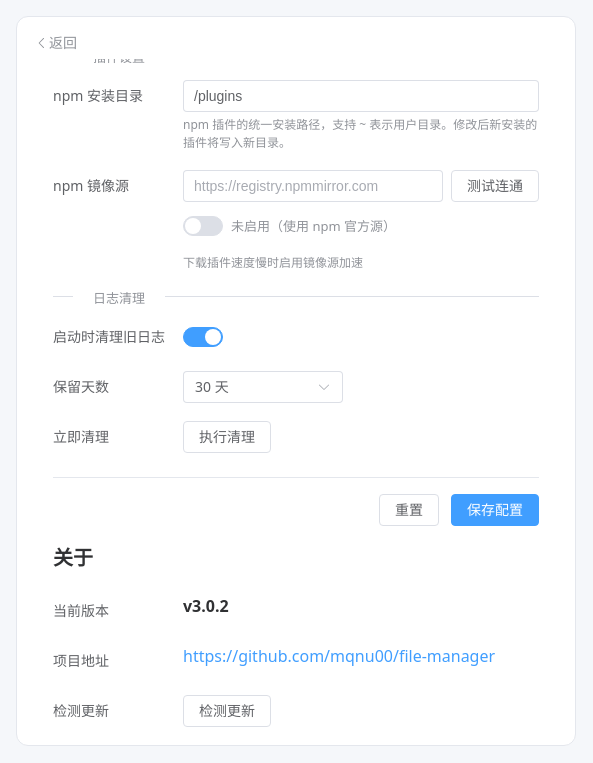
Test: ConfigView.vue 关于区块 › 检测更新 → 发现新版本时显示版本号与升级命令
(page scrolled)
Click the button "检测更新": click(227, 711) [183, 695, 271, 727]
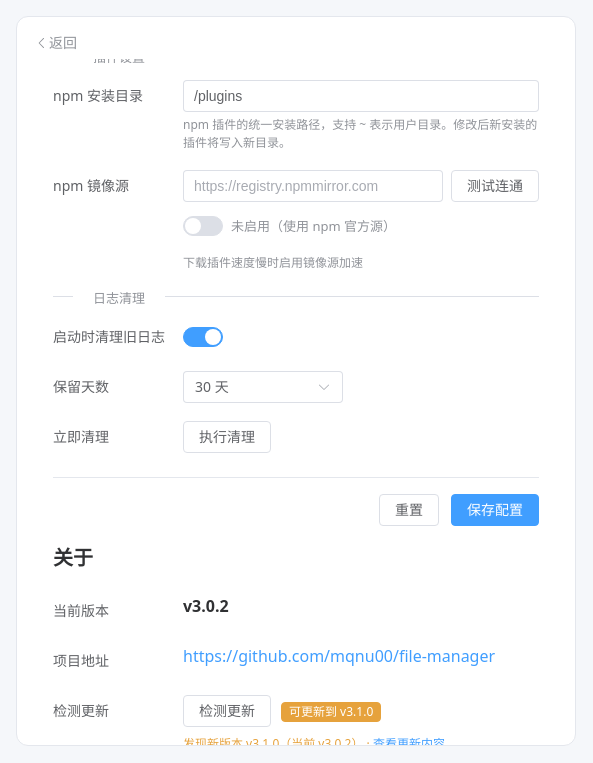
Expected: the text "可更新到 v3.1.0" is shown, [289, 706, 373, 718]
